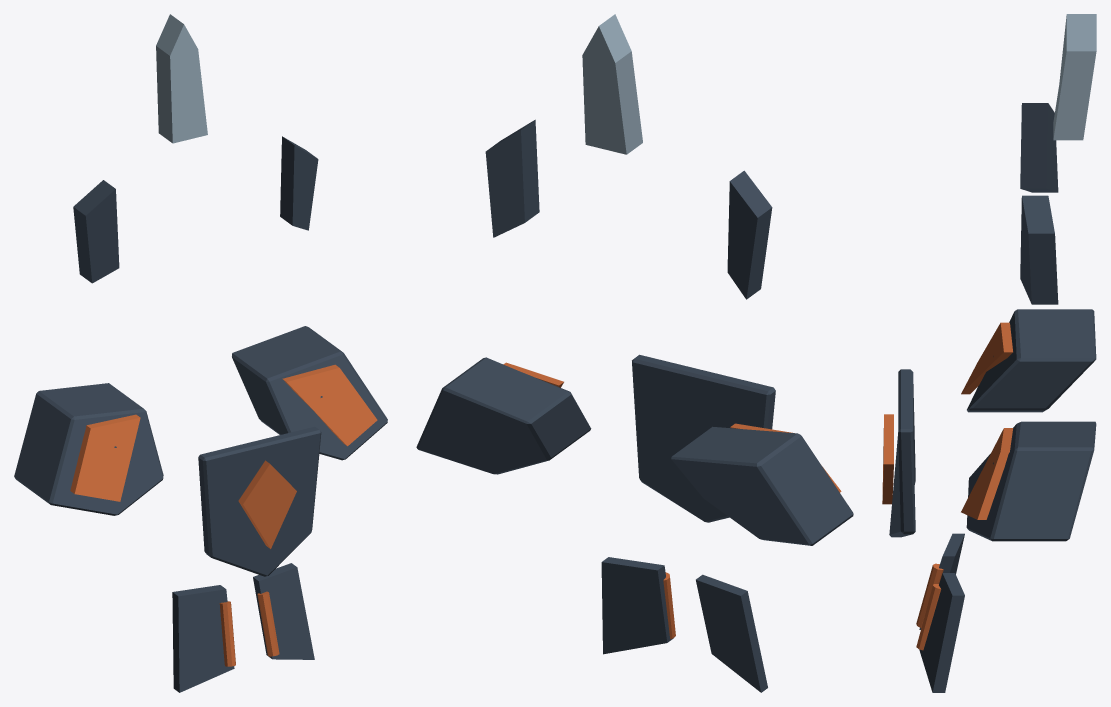
Rendered from forge-vanguard-v2.glb.
3 views of the same model, side by side, from view 1: azimuth 30°, elevation 25°; view 2: azimuth 150°, elevation 25°; view 3: azimuth 270°, elevation 25° (orthographic). The views are drawn at different scales.
Parts seen in each view (by area): view 1: 어깨 외곽, 흉갑 외곽, 어깨 외곽.001, 깃 없는 투구 마루, 허리 파편; view 2: 깃 없는 투구 마루, 어깨 외곽, 어깨 외곽.001, 흉갑 외곽, 허리 파편; view 3: 어깨 외곽.001, 깃 없는 투구 마루, 어깨 외곽, 허리 파편, 흉갑 외곽.
Boxes of the visible parts, bbox=[...] form: 어깨 외곽: bbox=[14, 383, 163, 515]; 흉갑 외곽: bbox=[198, 426, 321, 576]; 어깨 외곽.001: bbox=[232, 326, 387, 460]; 깃 없는 투구 마루: bbox=[73, 14, 318, 283]; 허리 파편: bbox=[172, 563, 314, 692]; 깃 없는 투구 마루: bbox=[485, 14, 772, 299]; 어깨 외곽: bbox=[671, 423, 853, 545]; 어깨 외곽.001: bbox=[416, 357, 591, 474]; 흉갑 외곽: bbox=[632, 354, 775, 522]; 허리 파편: bbox=[601, 557, 767, 692]; 어깨 외곽.001: bbox=[961, 421, 1096, 541]; 깃 없는 투구 마루: bbox=[1020, 14, 1096, 304]; 어깨 외곽: bbox=[961, 309, 1096, 412]; 허리 파편: bbox=[916, 533, 964, 692]; 흉갑 외곽: bbox=[882, 369, 915, 537].
Bounding box in the file's own units: 1.25 × 2.14 × 0.645.
